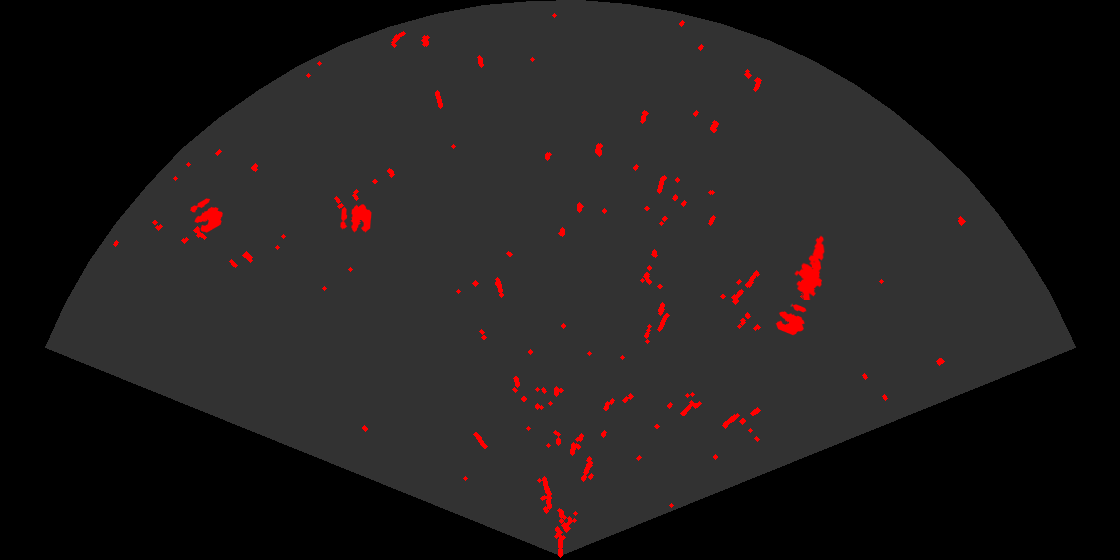ball: (189, 197, 224, 234), (774, 303, 808, 337), (339, 203, 373, 234)
frogman: (793, 234, 826, 300)
